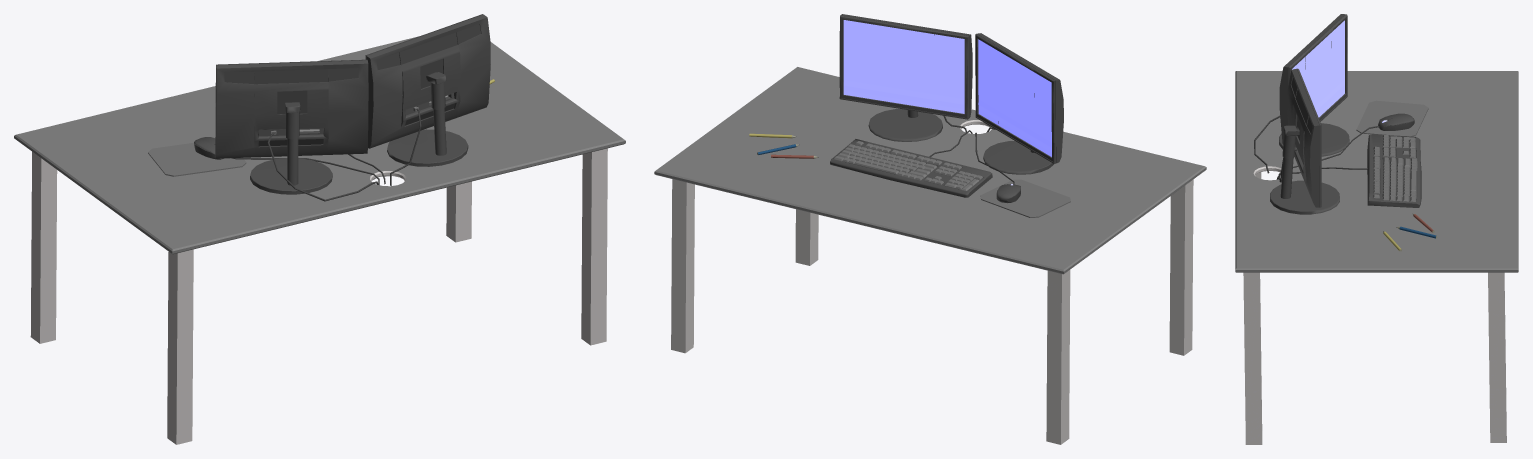
The picture shows the model from 3 angles, left to right: view 1: azimuth 30°, elevation 25°; view 2: azimuth 150°, elevation 25°; view 3: azimuth 270°, elevation 25°; orthographic projection. The views are drawn at different scales.
Visible parts, largest first — view 1: Monitor_1_lambert2_0; view 2: Monitor_1_lambert2_0, Monitor_1_lambert3_0; view 3: Monitor_1_lambert2_0, Monitor_1_lambert3_0.
Boxes of the visible parts, <box> form: Monitor_1_lambert2_0: <box>14,14,625,444</box>; Monitor_1_lambert2_0: <box>654,14,1206,444</box>; Monitor_1_lambert3_0: <box>843,20,1051,185</box>; Monitor_1_lambert2_0: <box>1235,14,1518,444</box>; Monitor_1_lambert3_0: <box>1292,20,1387,122</box>.
Bounding box in the file's own units: 176 × 118 × 107.
2 materials, 2 textured.
